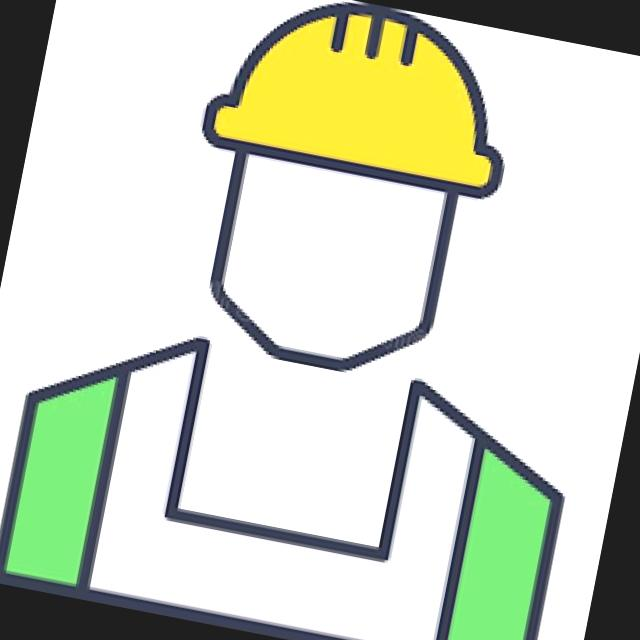construction-vest: (0, 289, 594, 640)
helmet: (183, 0, 544, 215)
